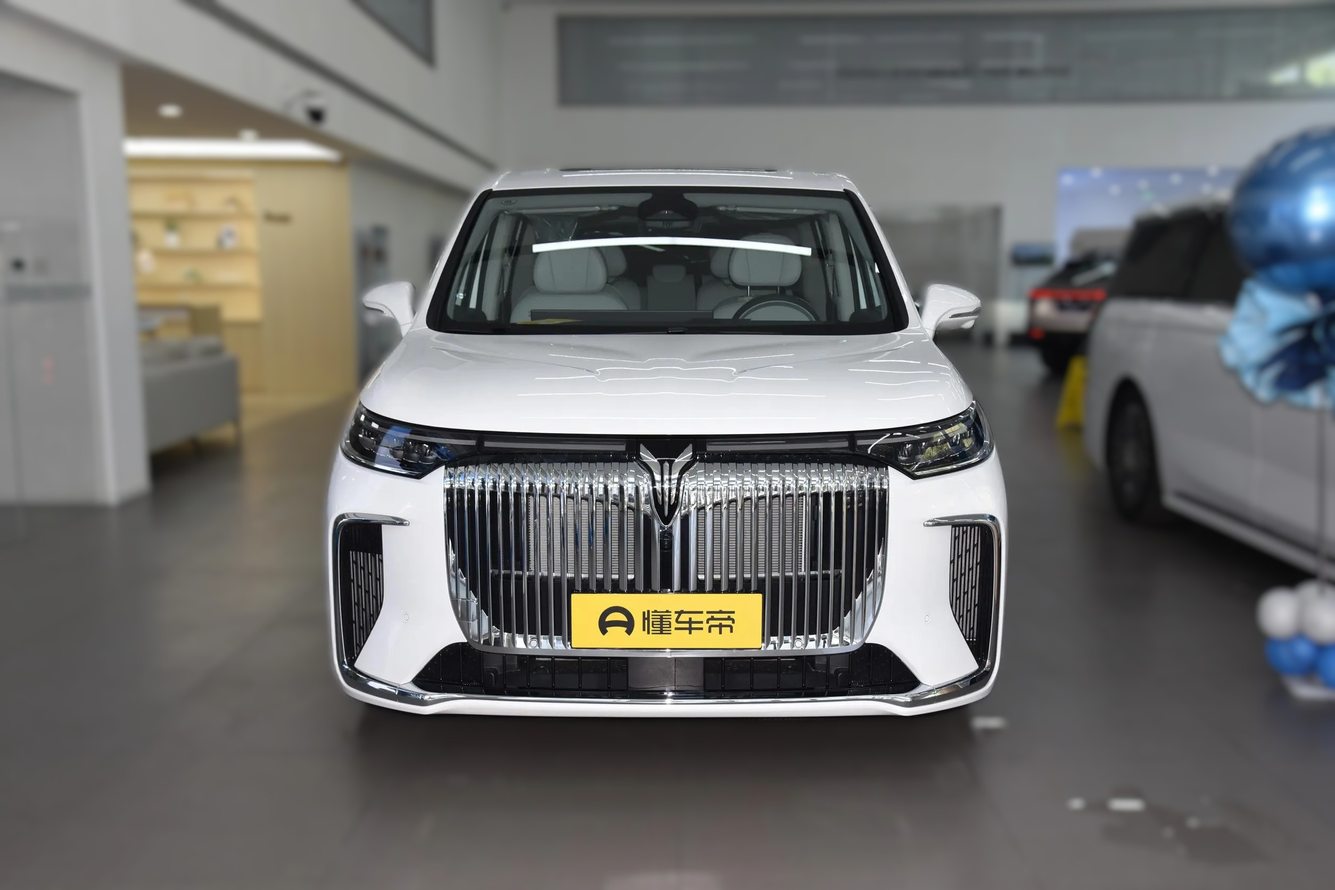VOYAH: (640, 443, 692, 516)
